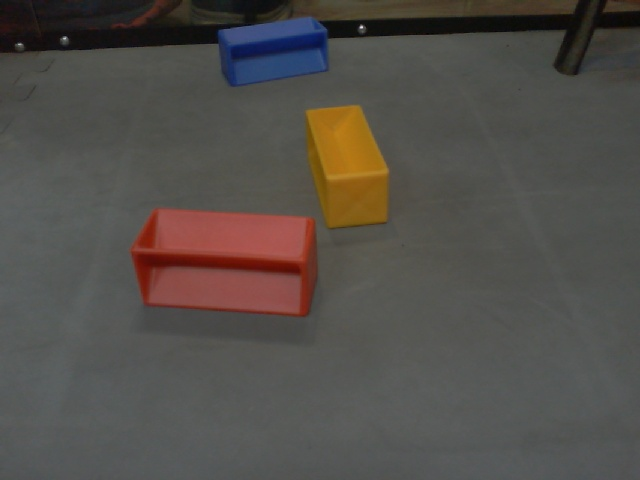BlueSample: (216, 16, 331, 90)
RedSample: (129, 207, 318, 323)
YellowSample: (302, 104, 394, 233)
